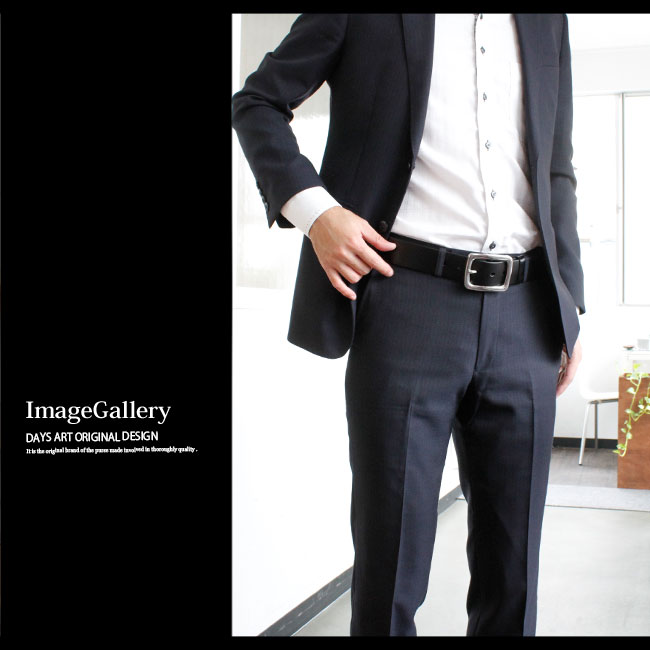F_M_suit jacket: (230, 1, 592, 342)
F_belt: (370, 227, 548, 299)
F_dress pants: (350, 288, 553, 627)
